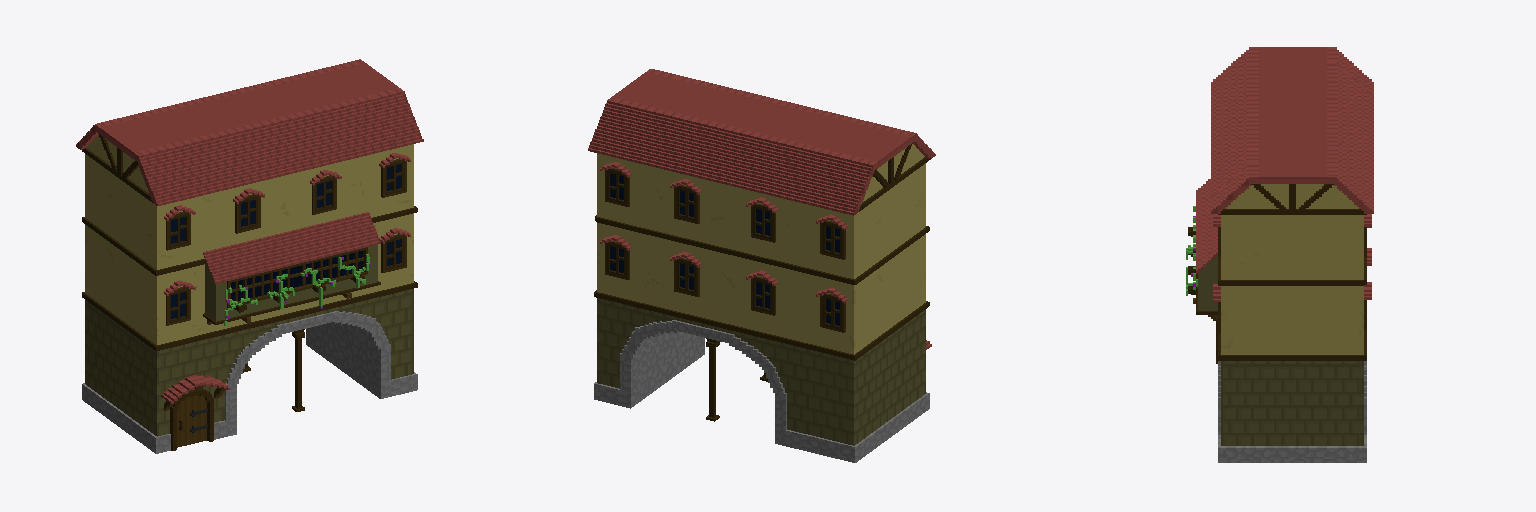
The picture shows the model from 3 angles: view 1: azimuth 30°, elevation 25°; view 2: azimuth 150°, elevation 25°; view 3: azimuth 270°, elevation 25°; orthographic projection.
Parts seen in each view (by area): view 1: object 1; view 2: object 1; view 3: object 1.
Part boxes in pixels (x1,y1,x2,y2): object 1: (76, 59, 423, 453); object 1: (588, 69, 935, 462); object 1: (1186, 47, 1373, 462).
Size of the model in its own units: 12.2 by 12.6 by 7.5.
1 materials, 1 textured.